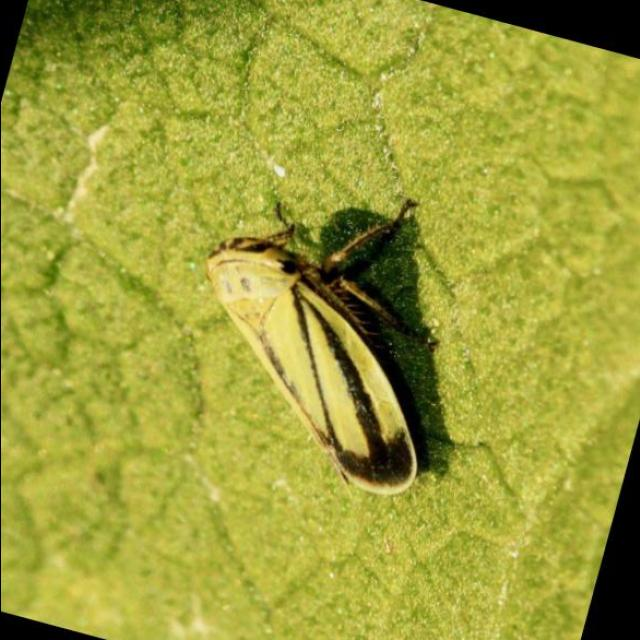green leaf hopper: (205, 201, 418, 495)
